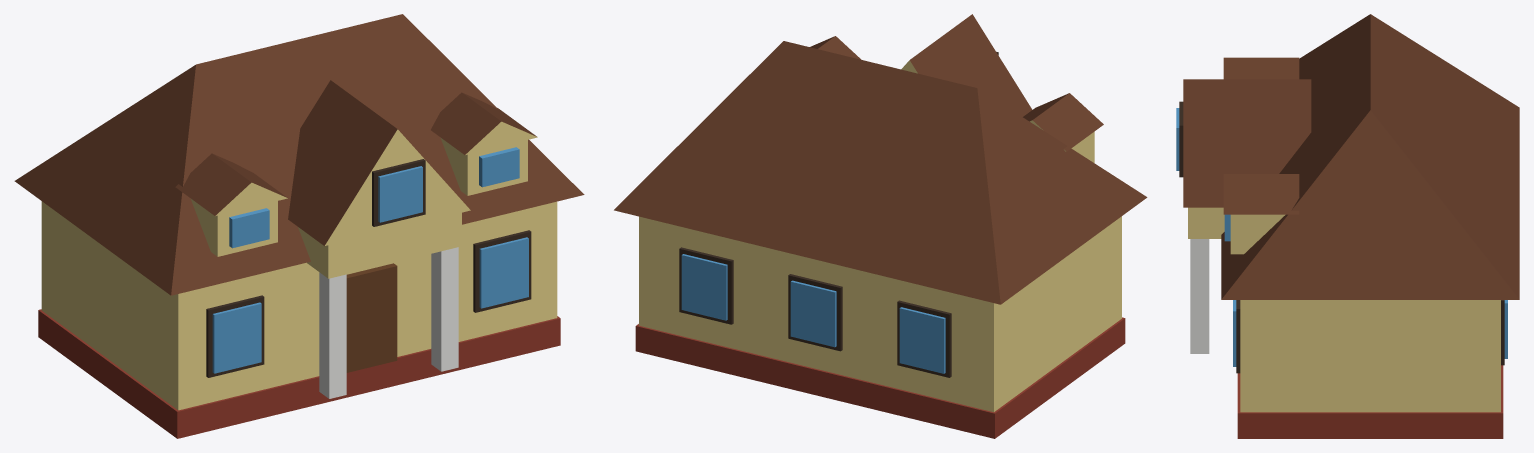
Rendered from 59_polish_dworek_3.obj.
3 views of the same model, side by side, from view 1: azimuth 30°, elevation 25°; view 2: azimuth 150°, elevation 25°; view 3: azimuth 270°, elevation 25° (orthographic). The views are drawn at different scales.
Parts seen in each view (by area): view 1: 59_polish_dworek_3; view 2: 59_polish_dworek_3; view 3: 59_polish_dworek_3.
Part boxes in pixels (x1,y1,x2,y2): 59_polish_dworek_3: (14,14,584,438); 59_polish_dworek_3: (614,14,1147,438); 59_polish_dworek_3: (1176,14,1519,438).
Bounding box in the file's own units: 1.92 × 1.34 × 1.45.
